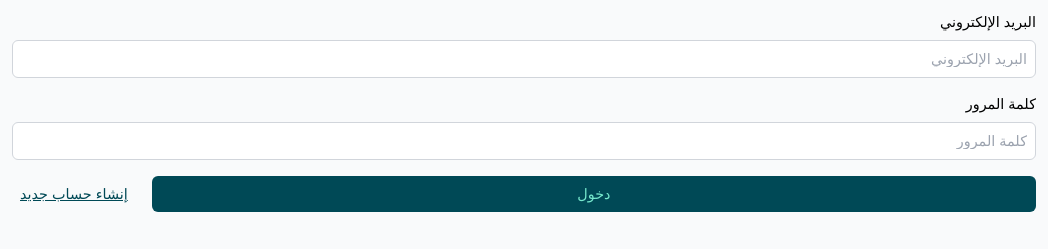
Test: LoginForm › validates email format
This screenshot has width=1048, height=249.
Type "invalid-email" into the field with placeholder "البريد الإلكتروني".
click(524, 59); type("invalid-email")  # box [12,40,1036,78]
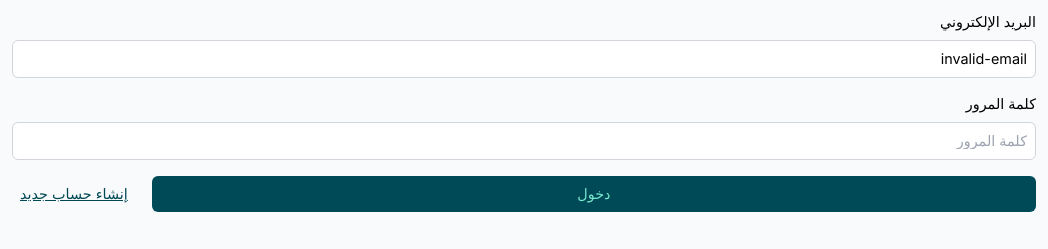
Leave the field with placeholder "البريد الإلكتروني", box [12,40,1036,78]
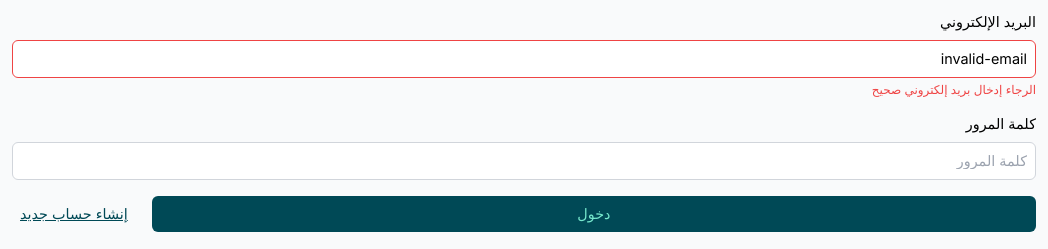
Expected: the text "الرجاء إدخال بريد إلكتروني صحيح" is shown, [872,82,1036,97]
